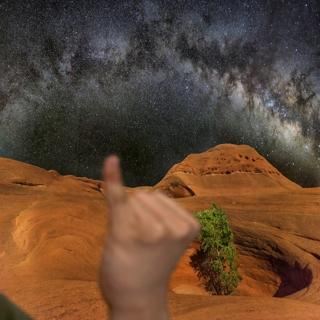FINE: (93, 153, 205, 309)
